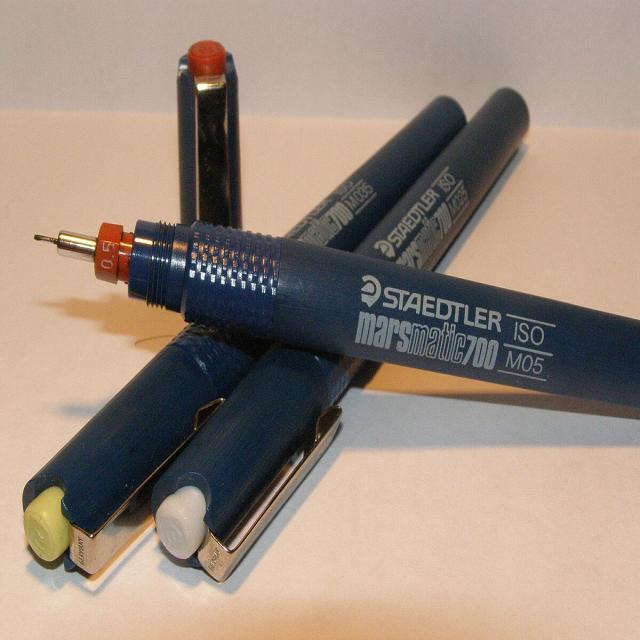pen: (27, 215, 640, 418)
